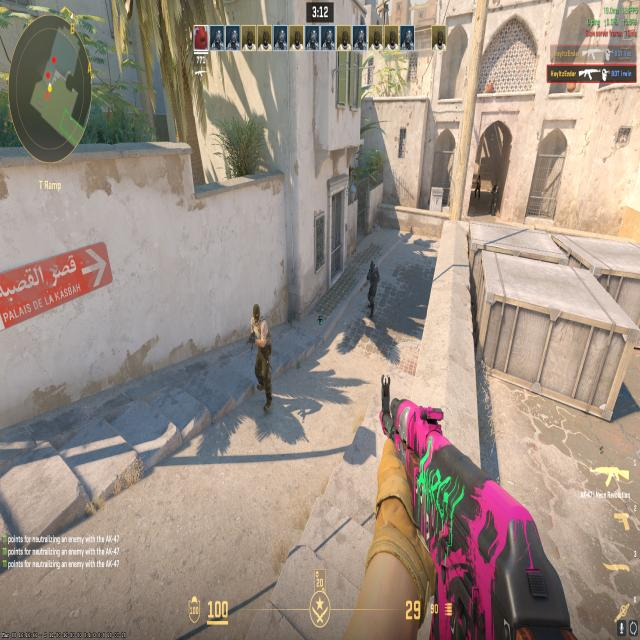ct: (360, 258, 383, 322), (491, 180, 498, 214)
t: (239, 294, 279, 420), (474, 172, 483, 200)
